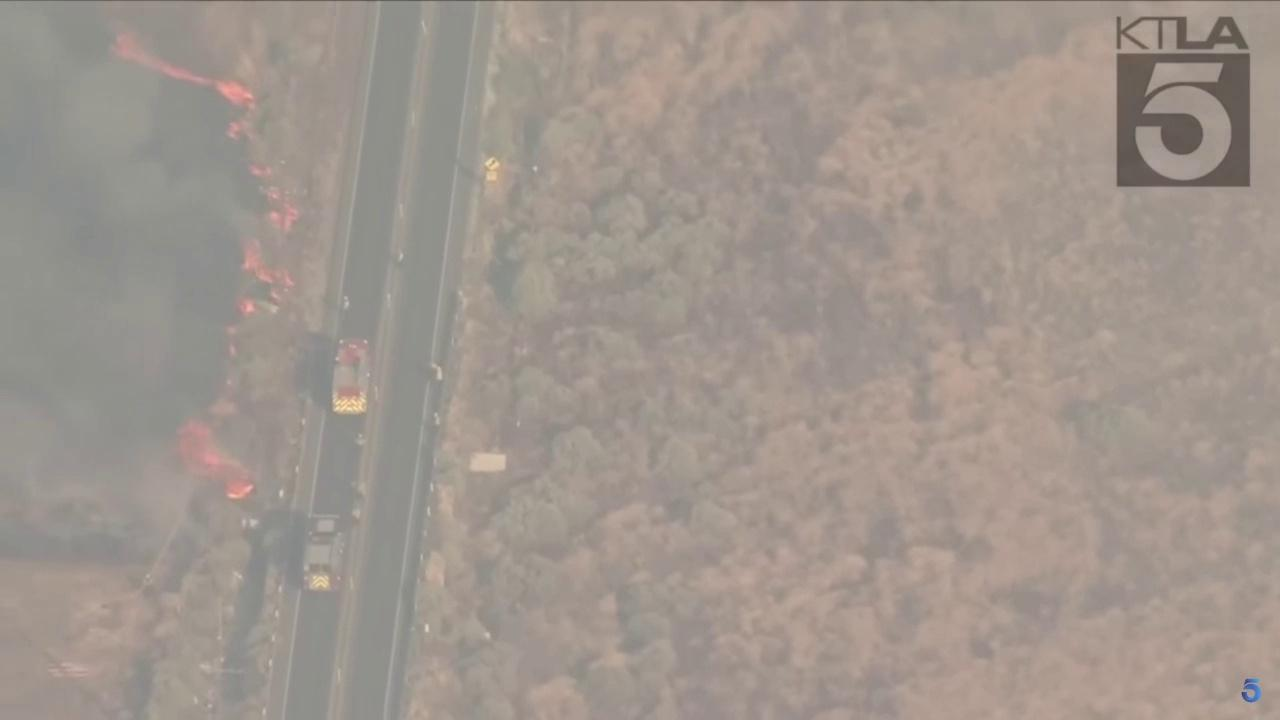fire: (110, 33, 262, 110), (177, 419, 255, 500), (242, 237, 295, 303), (255, 184, 301, 232), (225, 117, 259, 143), (242, 160, 276, 178), (235, 293, 256, 318), (225, 327, 238, 335)
smoke: (0, 0, 247, 567)
